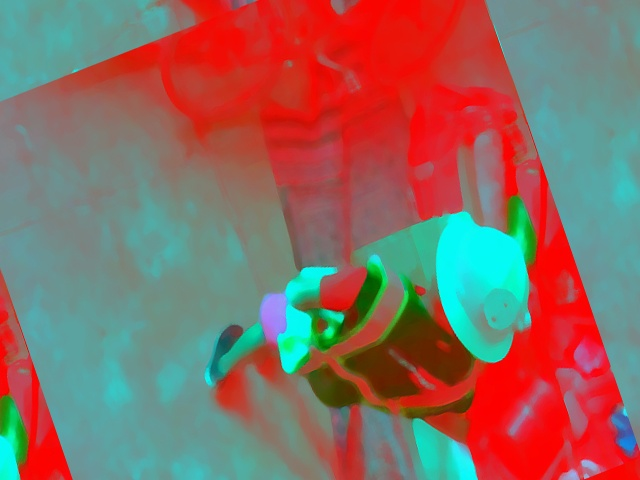one: (477, 283, 524, 336)
